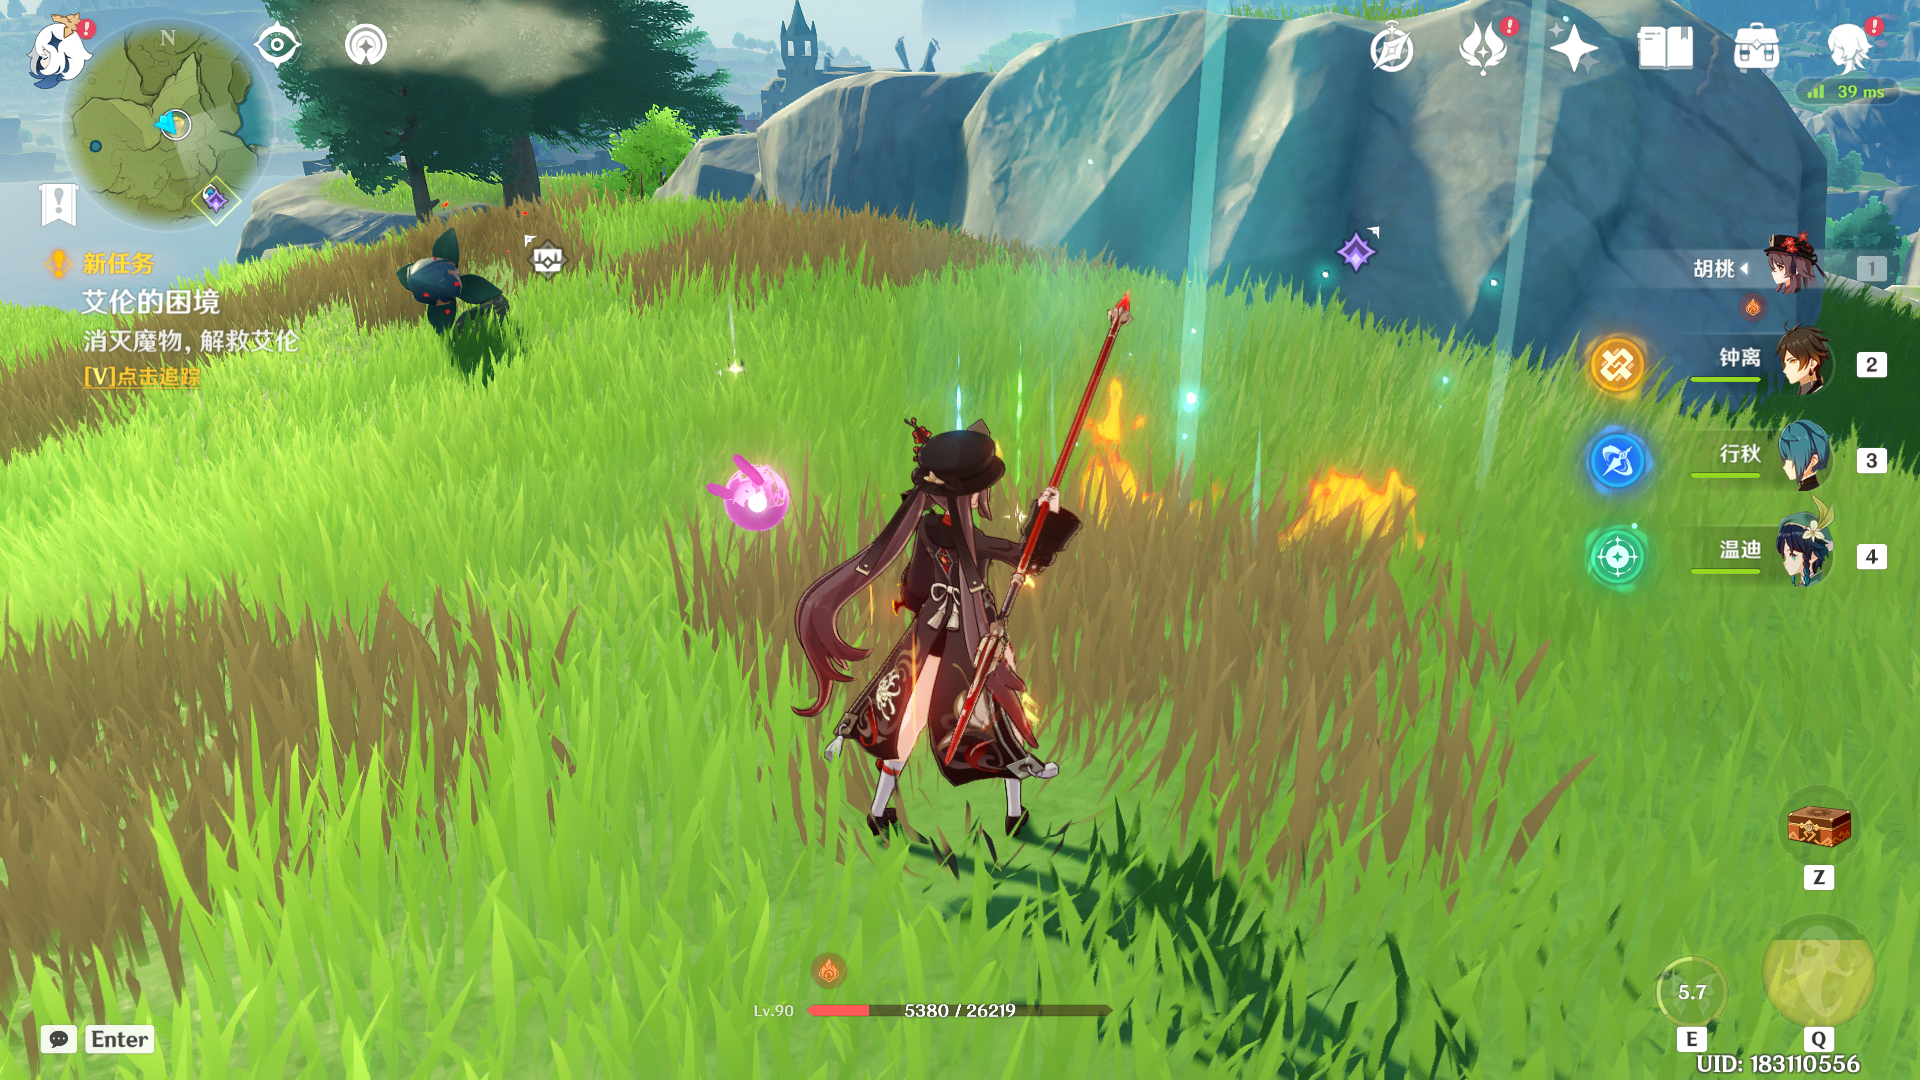character: (757, 357, 1156, 872)
